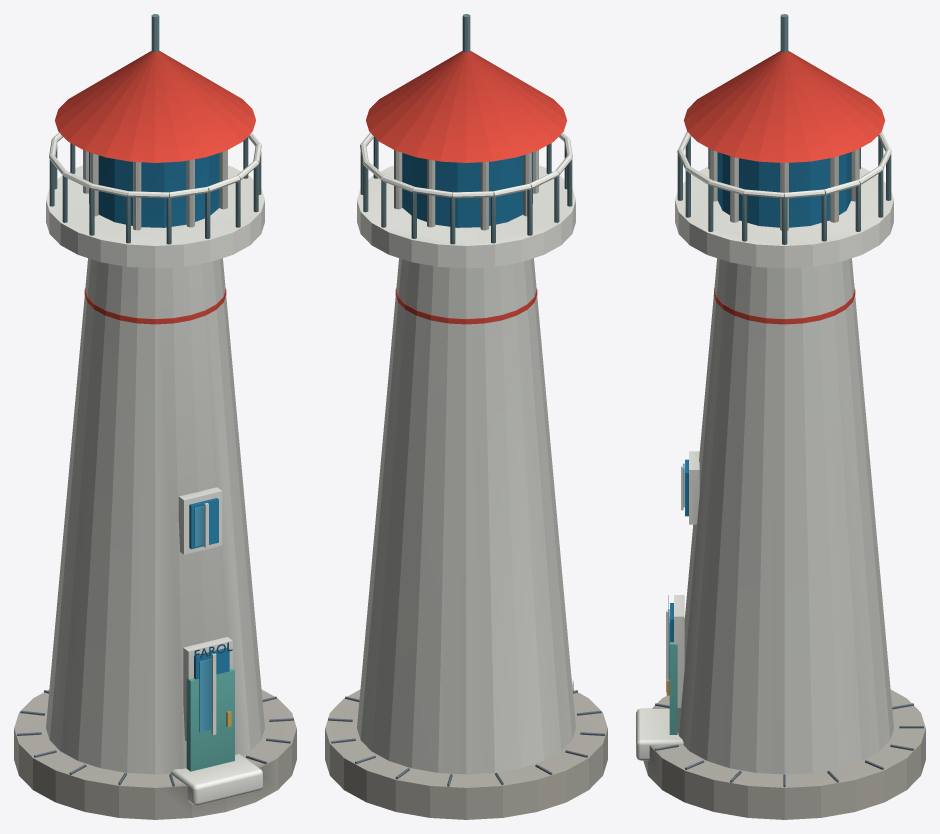
The model's file is lighthouse.glb.
The picture shows the model from 3 angles, left to right: view 1: azimuth 30°, elevation 25°; view 2: azimuth 150°, elevation 25°; view 3: azimuth 270°, elevation 25°; orthographic projection.
Visible parts, largest first — view 1: white tapered tower, red band, stone plinth, lantern glass, lighthouse door, finial, reflection, plinth stone joint; view 2: white tapered tower, red band, stone plinth, lantern glass, finial, plinth stone joint; view 3: white tapered tower, red band, stone plinth, lantern glass, finial, lighthouse door, plinth stone joint.
Boxes of the visible parts, bbox=[...] form: white tapered tower: bbox=[46, 132, 264, 805]; red band: bbox=[55, 50, 255, 324]; stone plinth: bbox=[14, 689, 296, 819]; lantern glass: bbox=[89, 152, 229, 679]; lighthouse door: bbox=[186, 669, 234, 771]; finial: bbox=[49, 14, 261, 244]; reflection: bbox=[194, 506, 211, 732]; plinth stone joint: bbox=[17, 690, 293, 786]; white tapered tower: bbox=[357, 132, 575, 774]; red band: bbox=[366, 50, 566, 324]; stone plinth: bbox=[325, 689, 607, 819]; lantern glass: bbox=[402, 152, 532, 227]; finial: bbox=[360, 14, 572, 244]; plinth stone joint: bbox=[328, 690, 604, 786]; white tapered tower: bbox=[636, 131, 893, 774]; red band: bbox=[684, 51, 884, 324]; stone plinth: bbox=[643, 689, 925, 819]; lantern glass: bbox=[670, 152, 851, 641]; finial: bbox=[677, 14, 891, 244]; lighthouse door: bbox=[669, 623, 677, 734]; plinth stone joint: bbox=[655, 703, 923, 787].
Size of the model in its own units: 1.6 by 4.65 by 1.64.
